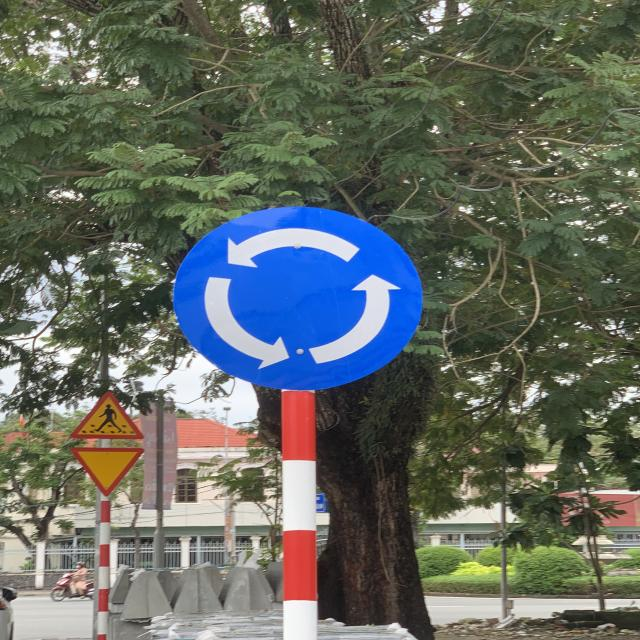Duong_Nguoi_Di_Bo_Sang_Ngang: (68, 390, 146, 440)
Gioi_Han_Toc_Do_25: (70, 446, 144, 496)
Xe_Bus: (170, 204, 427, 395)
